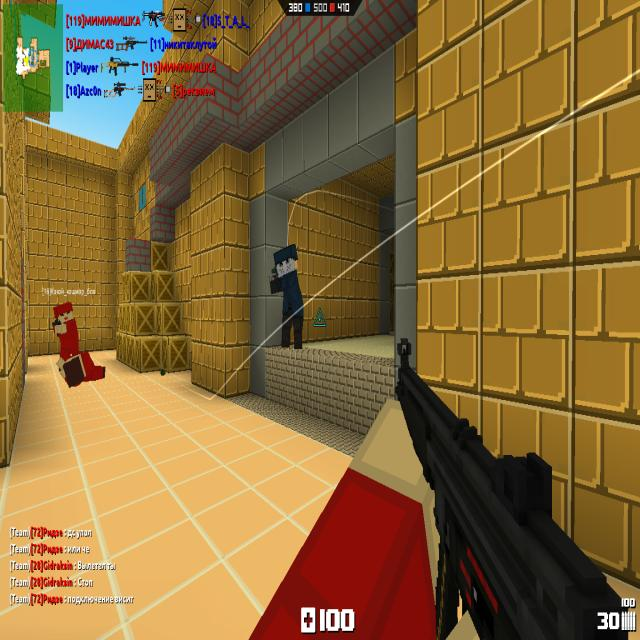enemy: (270, 243, 304, 349)
